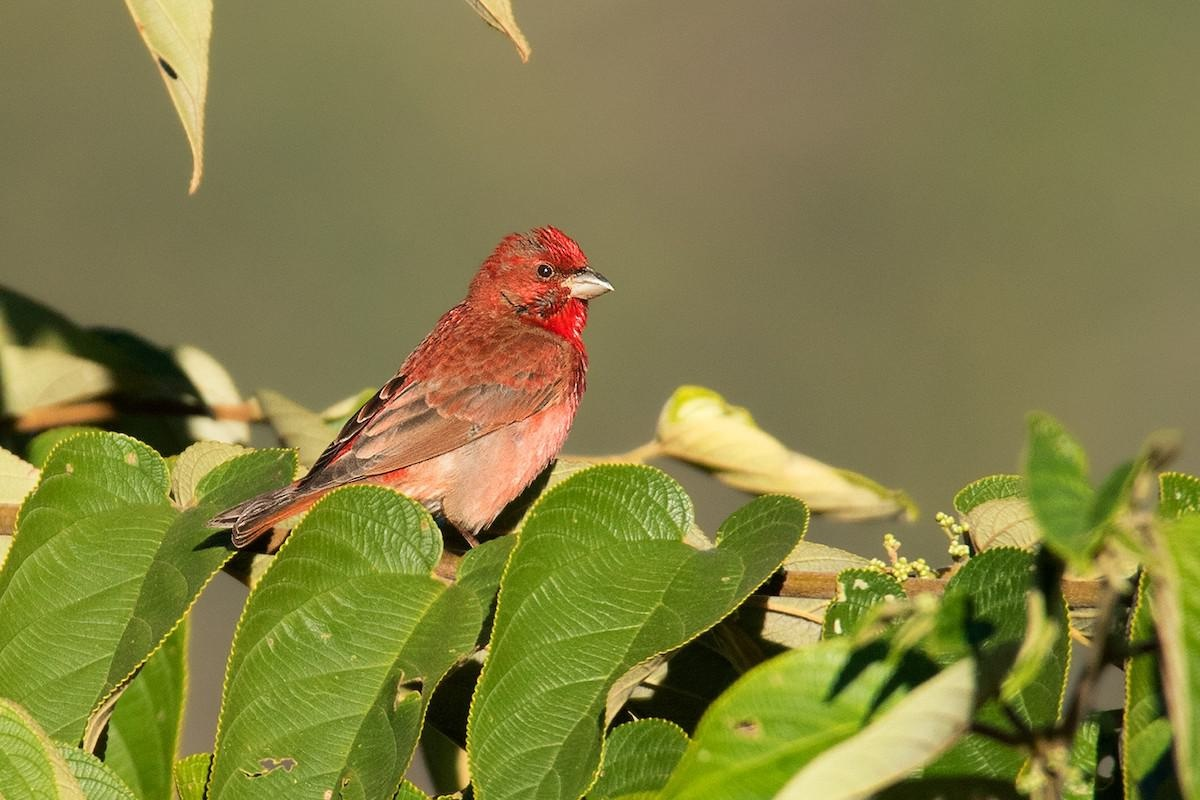rosefinch: (263, 218, 615, 580)
